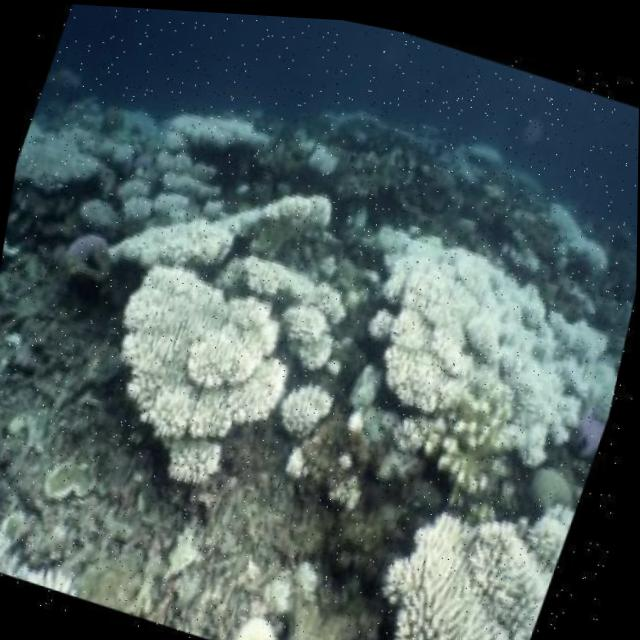Bleached Coral: (65, 190, 401, 534), (324, 192, 638, 492), (4, 28, 300, 295), (365, 432, 591, 640)
